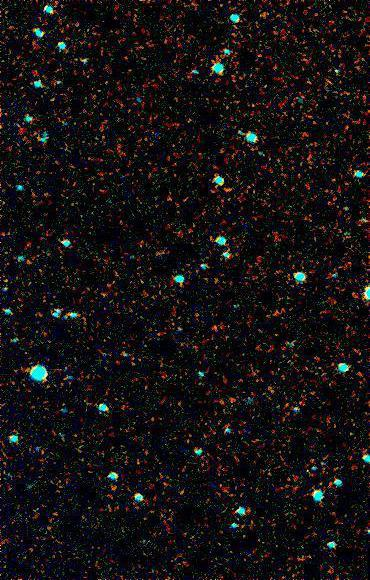star: (201, 314, 231, 344)
